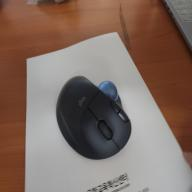mouse: (52, 73, 134, 162)
